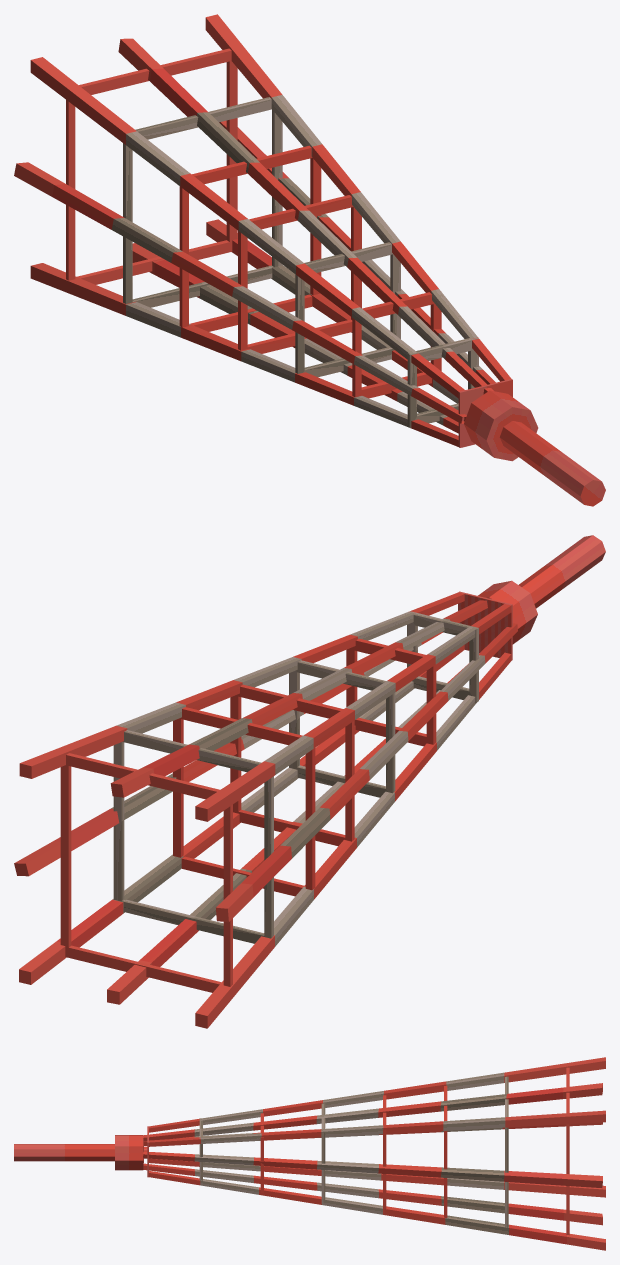
Rendered from 049_radiotower.gltf.
3 views of the same model, one above another, from view 1: azimuth 30°, elevation 25°; view 2: azimuth 150°, elevation 25°; view 3: azimuth 270°, elevation 25° (orthographic). The views are drawn at different scales.
Parts seen in each view (by area): view 1: radiotower; view 2: radiotower; view 3: radiotower.
Boxes of the visible parts, bbox=[...] form: radiotower: bbox=[14, 14, 605, 506]; radiotower: bbox=[14, 535, 605, 1028]; radiotower: bbox=[14, 1057, 605, 1250].
Bounding box in the file's own units: 11.24 × 11.06 × 43.08.
1 material, 1 textured.
